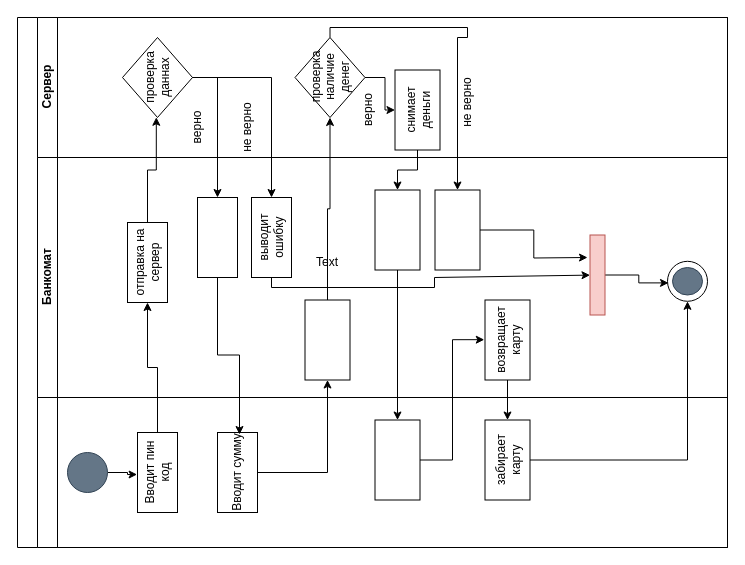
Image size: 745x565. Some labels were removed from this diagram. The box of each missing label's shape, as (x1, y1, x2, y2) in pixels:
выводит поле для снятия денег: (196, 196, 238, 278)
выдает: (374, 189, 420, 270)
выдает сообщение о ошибке: (434, 189, 480, 270)
забирает деньги: (374, 419, 420, 500)
Клиент: (36, 396, 728, 548)
отправляет на сервер: (304, 299, 350, 380)
